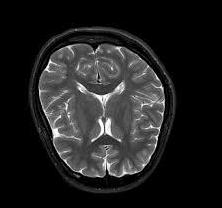Normal_Brain: (1, 1, 222, 208)
